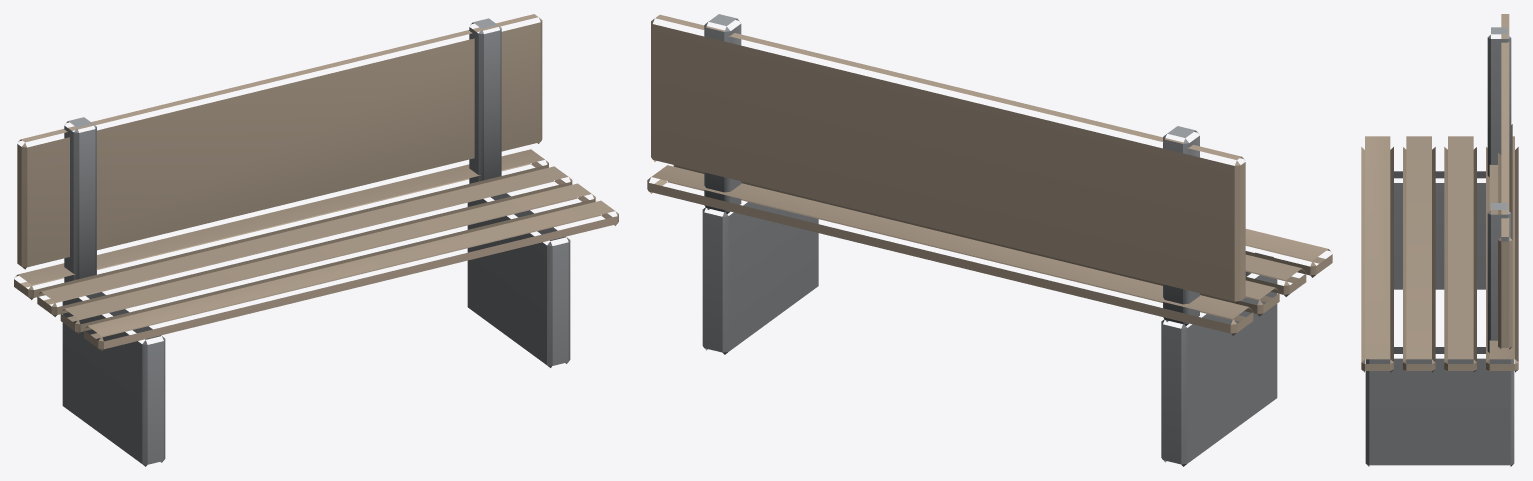
The model's file is bench.glb.
3 renders of one model, left to right at view 1: azimuth 30°, elevation 25°; view 2: azimuth 150°, elevation 25°; view 3: azimuth 270°, elevation 25°, orthographic. The views are drawn at different scales.
Visible parts, largest first — view 1: props_bench; view 2: props_bench; view 3: props_bench.
Boxes of the visible parts, x1,y1,x2,y2 form: props_bench: (14,14,618,466); props_bench: (647,14,1332,466); props_bench: (1361,14,1518,466).
Size of the model in its own units: 1.8 by 0.955 by 0.53.
